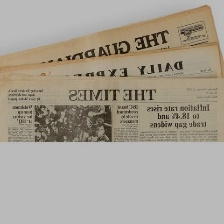news_paper: (0, 2, 224, 78), (0, 75, 224, 143), (0, 41, 222, 83)
